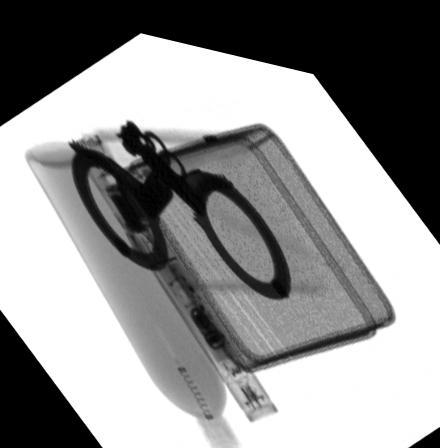Baton: (70, 129, 280, 413)
HandCuffs: (67, 113, 293, 288)
